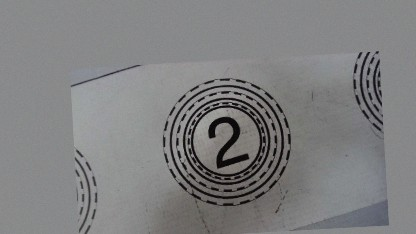2r: (156, 74, 295, 210)
